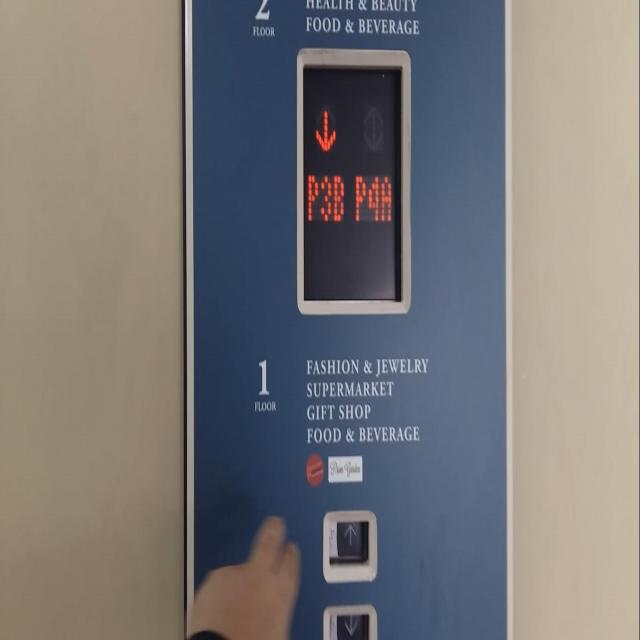down: (319, 602, 382, 639)
led: (291, 39, 413, 318)
up: (319, 502, 379, 588)
